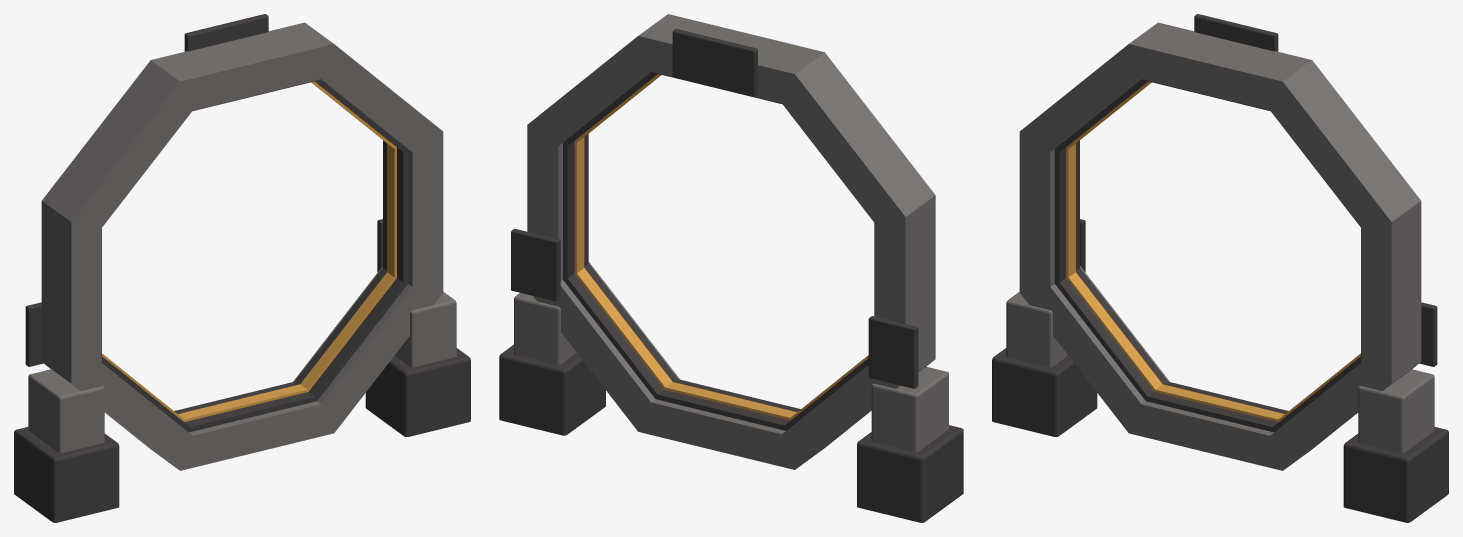
Rendered from rn2-forja-portal.glb.
3 views of the same model, side by side, from view 1: azimuth 30°, elevation 25°; view 2: azimuth 150°, elevation 25°; view 3: azimuth 330°, elevation 25° (orthographic).
Parts seen in each view (by area): view 1: rn2_forja_portal_body, rn2_forja_portal_glow; view 2: rn2_forja_portal_body, rn2_forja_portal_glow; view 3: rn2_forja_portal_body, rn2_forja_portal_glow.
Boxes of the visible parts, x1,y1,x2,y2 form: rn2_forja_portal_body: [14, 14, 470, 522]; rn2_forja_portal_glow: [102, 81, 396, 422]; rn2_forja_portal_body: [499, 14, 963, 522]; rn2_forja_portal_glow: [574, 74, 868, 420]; rn2_forja_portal_body: [992, 14, 1448, 522]; rn2_forja_portal_glow: [1066, 81, 1360, 422].
Bounding box in the file's own units: 16.4 × 15.8 × 2.8.
